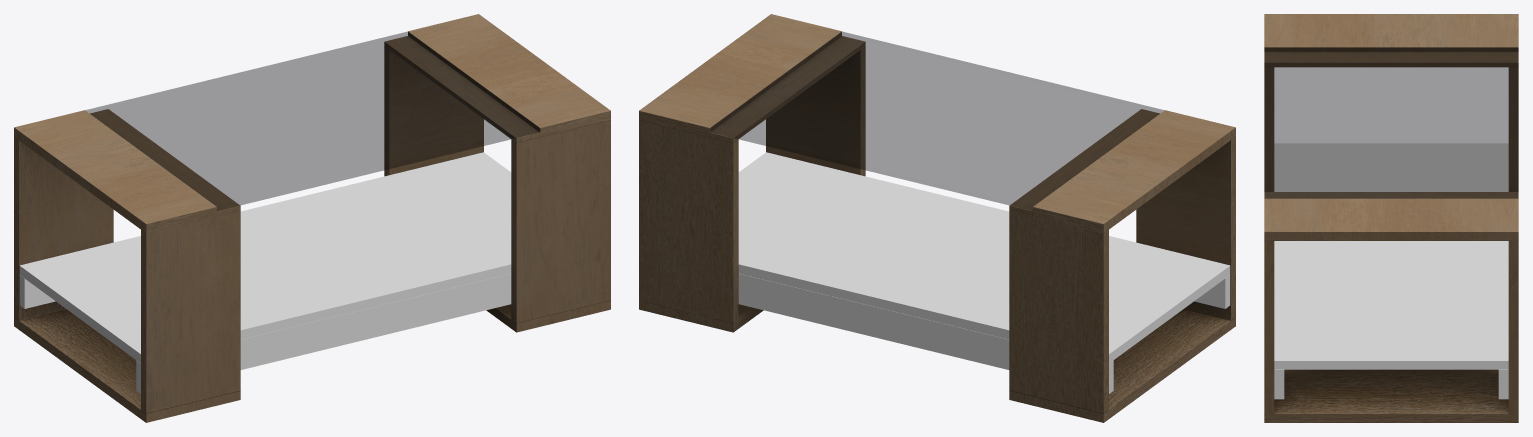
The model's file is CenterTable_3.fbx.
3 views of the same model, side by side, from view 1: azimuth 30°, elevation 25°; view 2: azimuth 150°, elevation 25°; view 3: azimuth 270°, elevation 25° (orthographic). The views are drawn at different scales.
Parts seen in each view (by area): view 1: Plane; view 2: Plane; view 3: Plane.
Boxes of the visible parts, x1,y1,x2,y2 form: Plane: [14, 14, 610, 422]; Plane: [639, 14, 1235, 422]; Plane: [1264, 14, 1518, 422].
Bounding box in the file's own units: 100 × 40.9 × 49.28.
3 materials, 1 textured.
